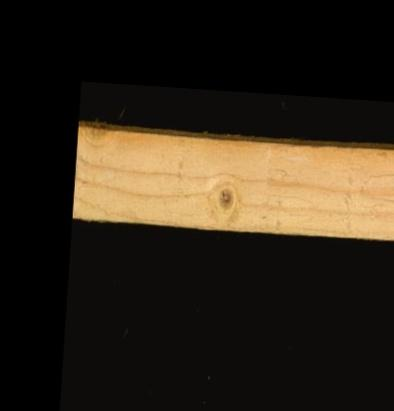sound_knot: (213, 185, 235, 212)
